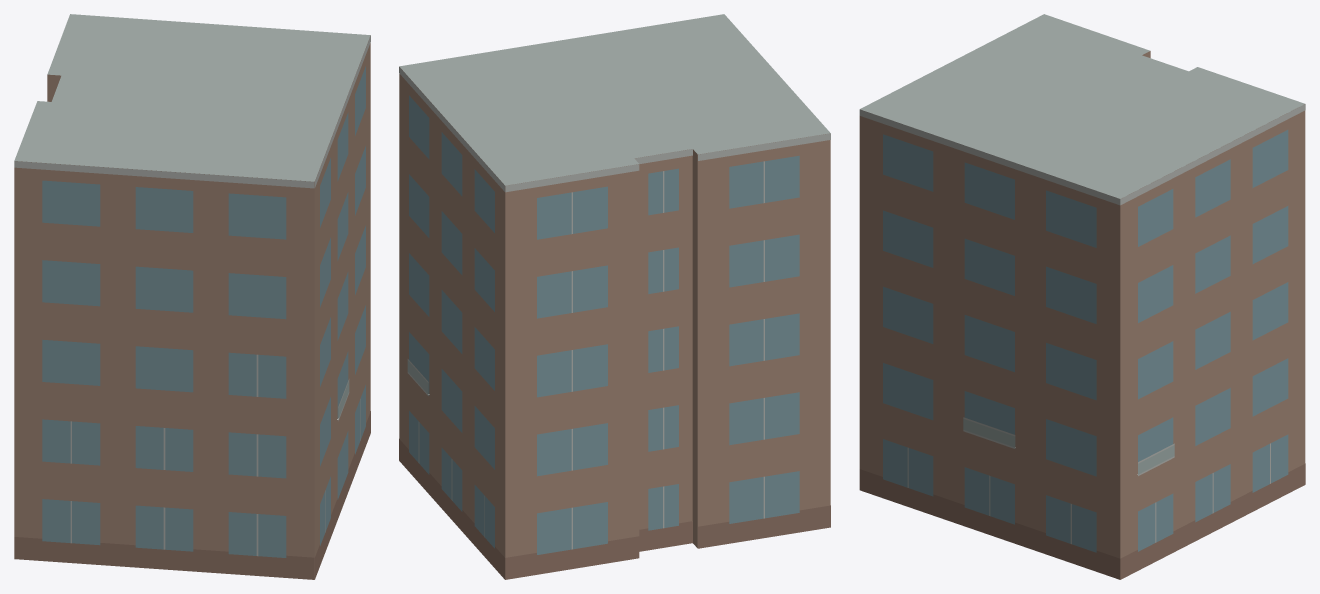
The model's file is survey-upis-33000141.glb.
The picture shows the model from 3 angles, left to right: view 1: azimuth 30°, elevation 25°; view 2: azimuth 150°, elevation 25°; view 3: azimuth 270°, elevation 25°; orthographic projection. The views are drawn at different scales.
Parts seen in each view (by area): view 1: survey-upis-33000141.tmp; view 2: survey-upis-33000141.tmp; view 3: survey-upis-33000141.tmp.
Boxes of the visible parts, x1,y1,x2,y2 form: survey-upis-33000141.tmp: (14, 14, 370, 579); survey-upis-33000141.tmp: (399, 14, 830, 579); survey-upis-33000141.tmp: (859, 14, 1305, 579).
Size of the model in its own units: 15.01 by 14.4 by 15.28.
